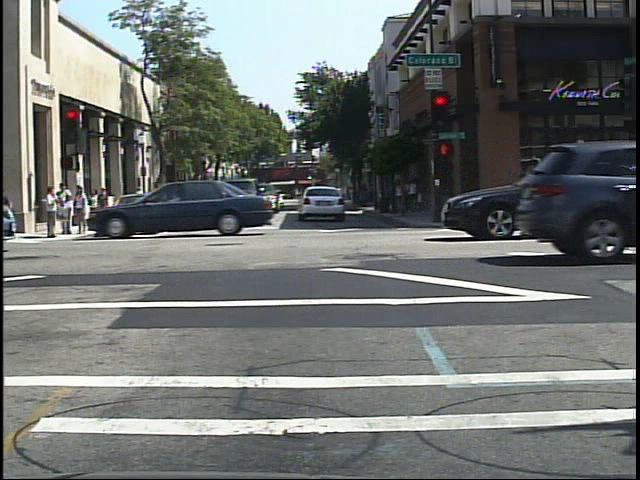person: (87, 188, 102, 229), (169, 183, 186, 217), (131, 183, 147, 214)
